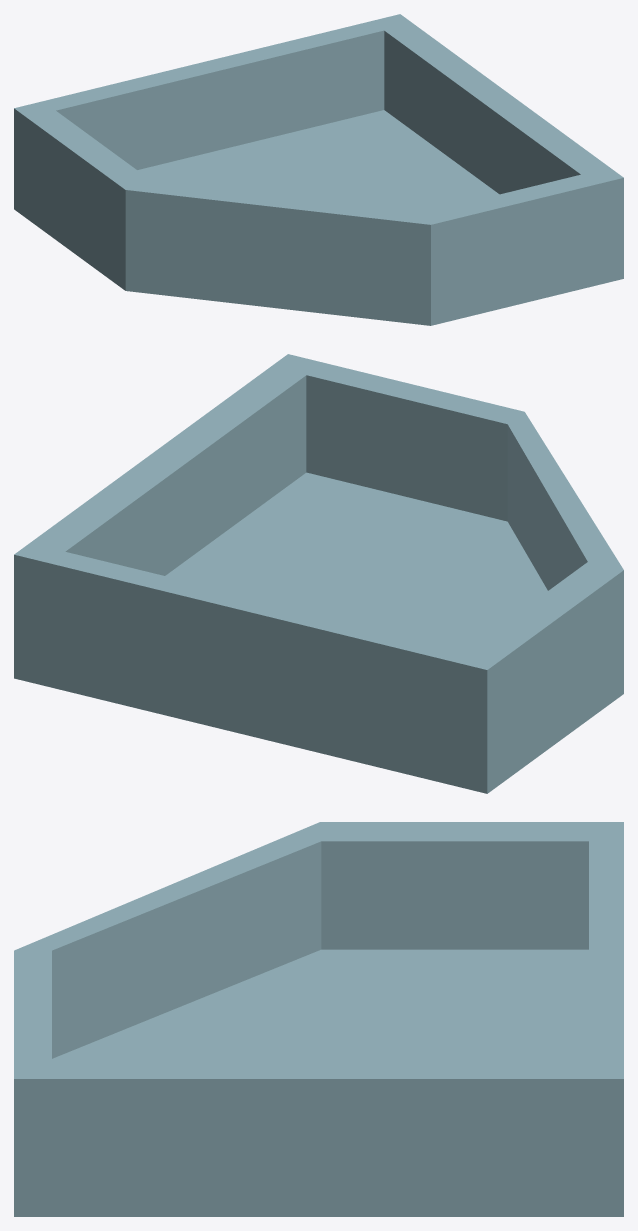
File: Bathtub2.fbx
The picture shows the model from 3 angles, top to bottom: view 1: azimuth 30°, elevation 25°; view 2: azimuth 150°, elevation 25°; view 3: azimuth 270°, elevation 25°; orthographic projection. The views are drawn at different scales.
Visible parts, largest first — view 1: Cube; view 2: Cube; view 3: Cube.
Part boxes in pixels (left/top/right/bottom): Cube: left=14, top=14, right=623, bottom=325; Cube: left=14, top=354, right=623, bottom=793; Cube: left=14, top=822, right=623, bottom=1216.
Bounding box in the file's own units: 400 × 100 × 401.
